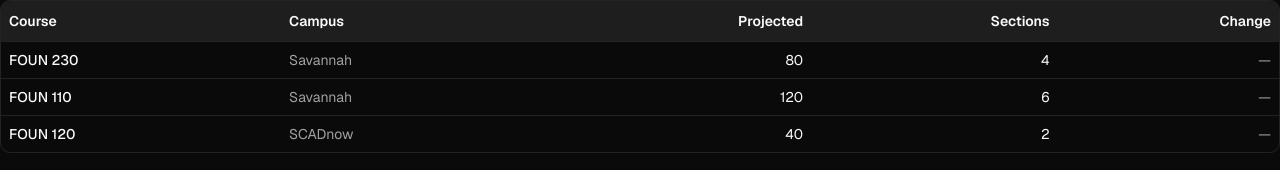
Test: DataTable › clicking Course header twice sorts descending
Click the button "Course": click(33, 21) [9,11,57,31]
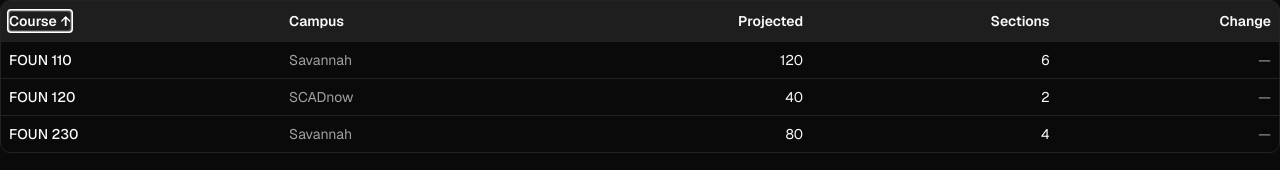
Click the button "Course ↑": click(40, 21) [9,11,71,31]
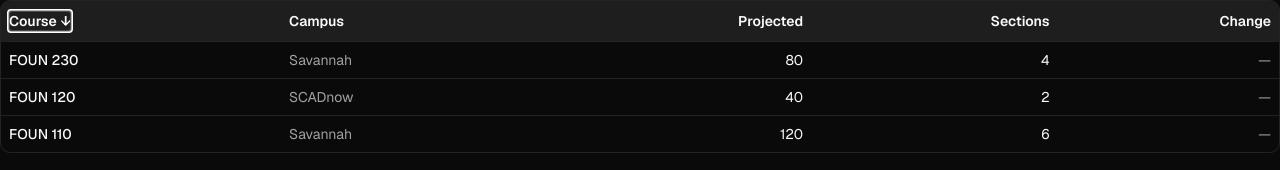
Result: the cell "FOUN 120" is shown at [1,78,281,115]
Result: the cell "FOUN 230" is shown at [1,41,281,78]
Result: the cell "FOUN 110" is shown at [1,115,281,152]
